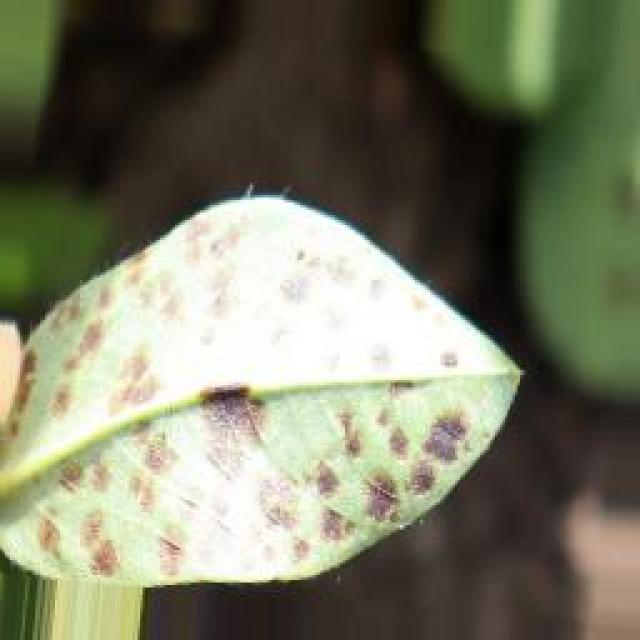Whitefly: (2, 124, 509, 608)
